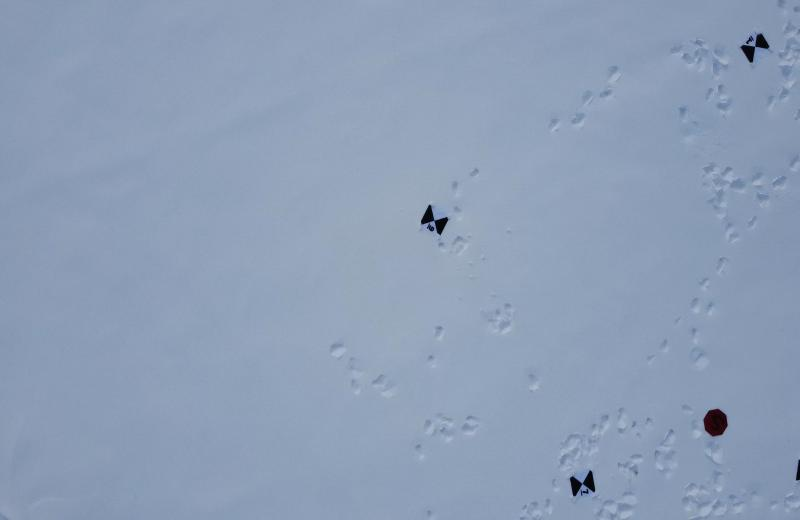Octagon: (699, 405, 730, 439)
